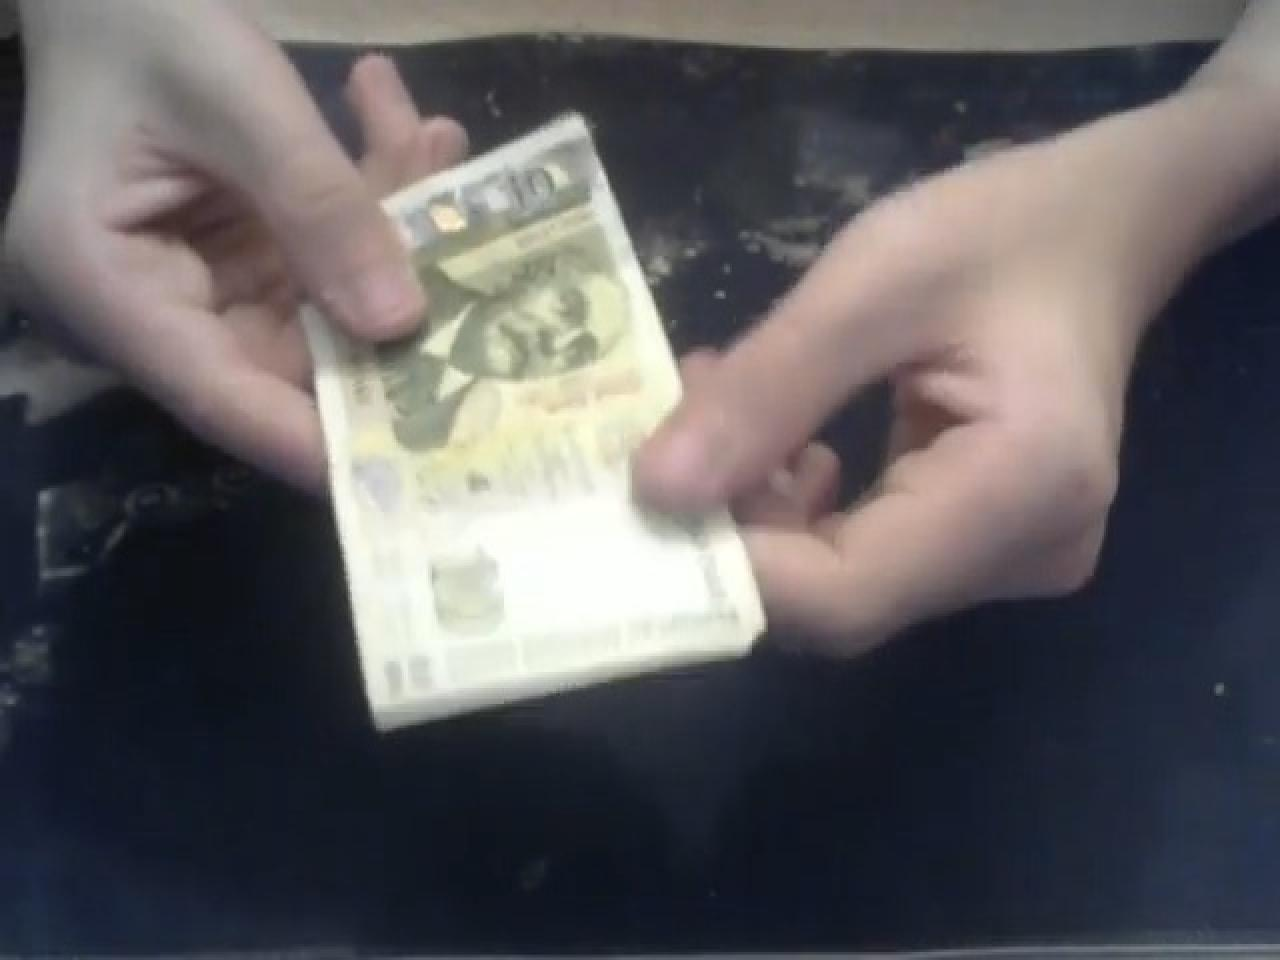10leva: (480, 148, 567, 241)
